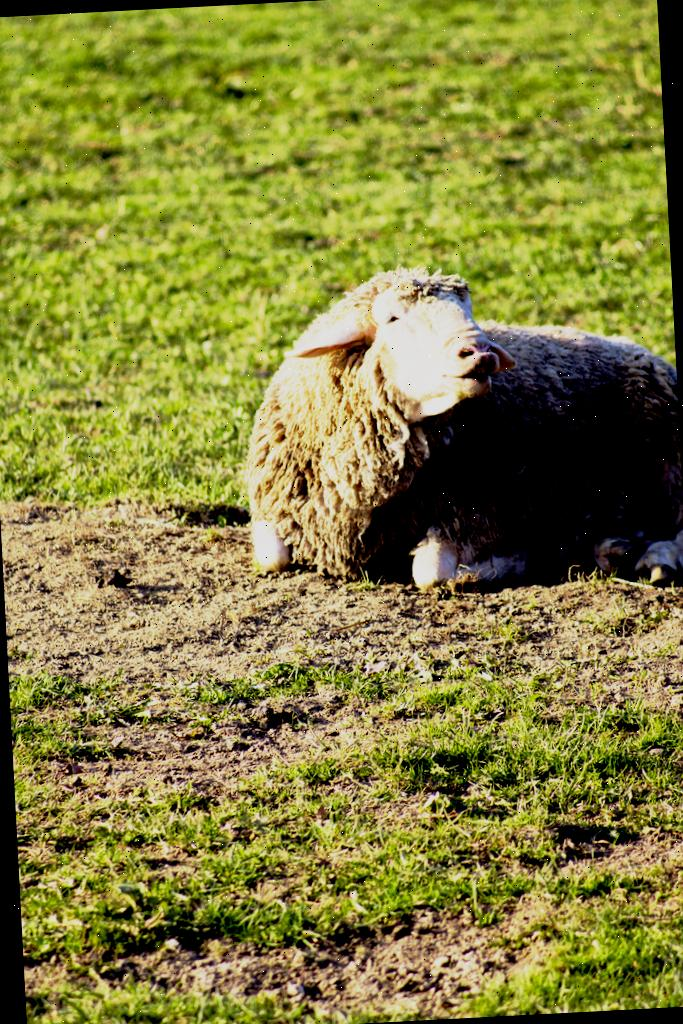Sheep: (225, 256, 682, 600)
